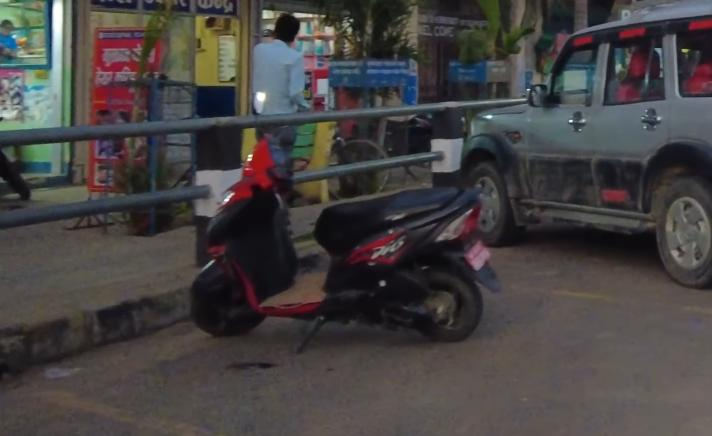SUV: (454, 2, 712, 291)
scooter: (190, 97, 504, 356)
